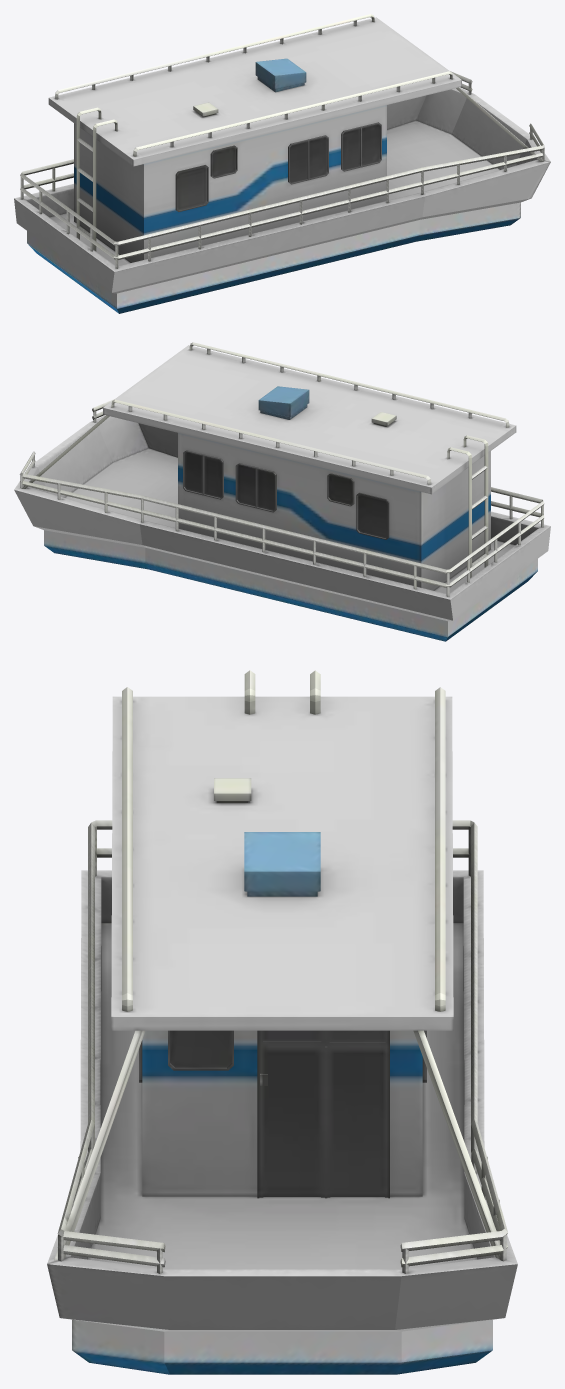
Rendered from c2SYxaiPfF3.glb.
3 views of the same model, one above another, from view 1: azimuth 30°, elevation 25°; view 2: azimuth 150°, elevation 25°; view 3: azimuth 270°, elevation 25° (orthographic). The views are drawn at different scales.
Visible parts, largest first — view 1: Houseboat_mesh; view 2: Houseboat_mesh; view 3: Houseboat_mesh.
Part boxes in pixels (x1,y1,x2,y2): Houseboat_mesh: [14, 14, 550, 313]; Houseboat_mesh: [14, 342, 550, 641]; Houseboat_mesh: [47, 670, 517, 1374].
Size of the model in its own units: 2.72 by 1 by 1.26.
Materials: 1 (1 with a texture image).
